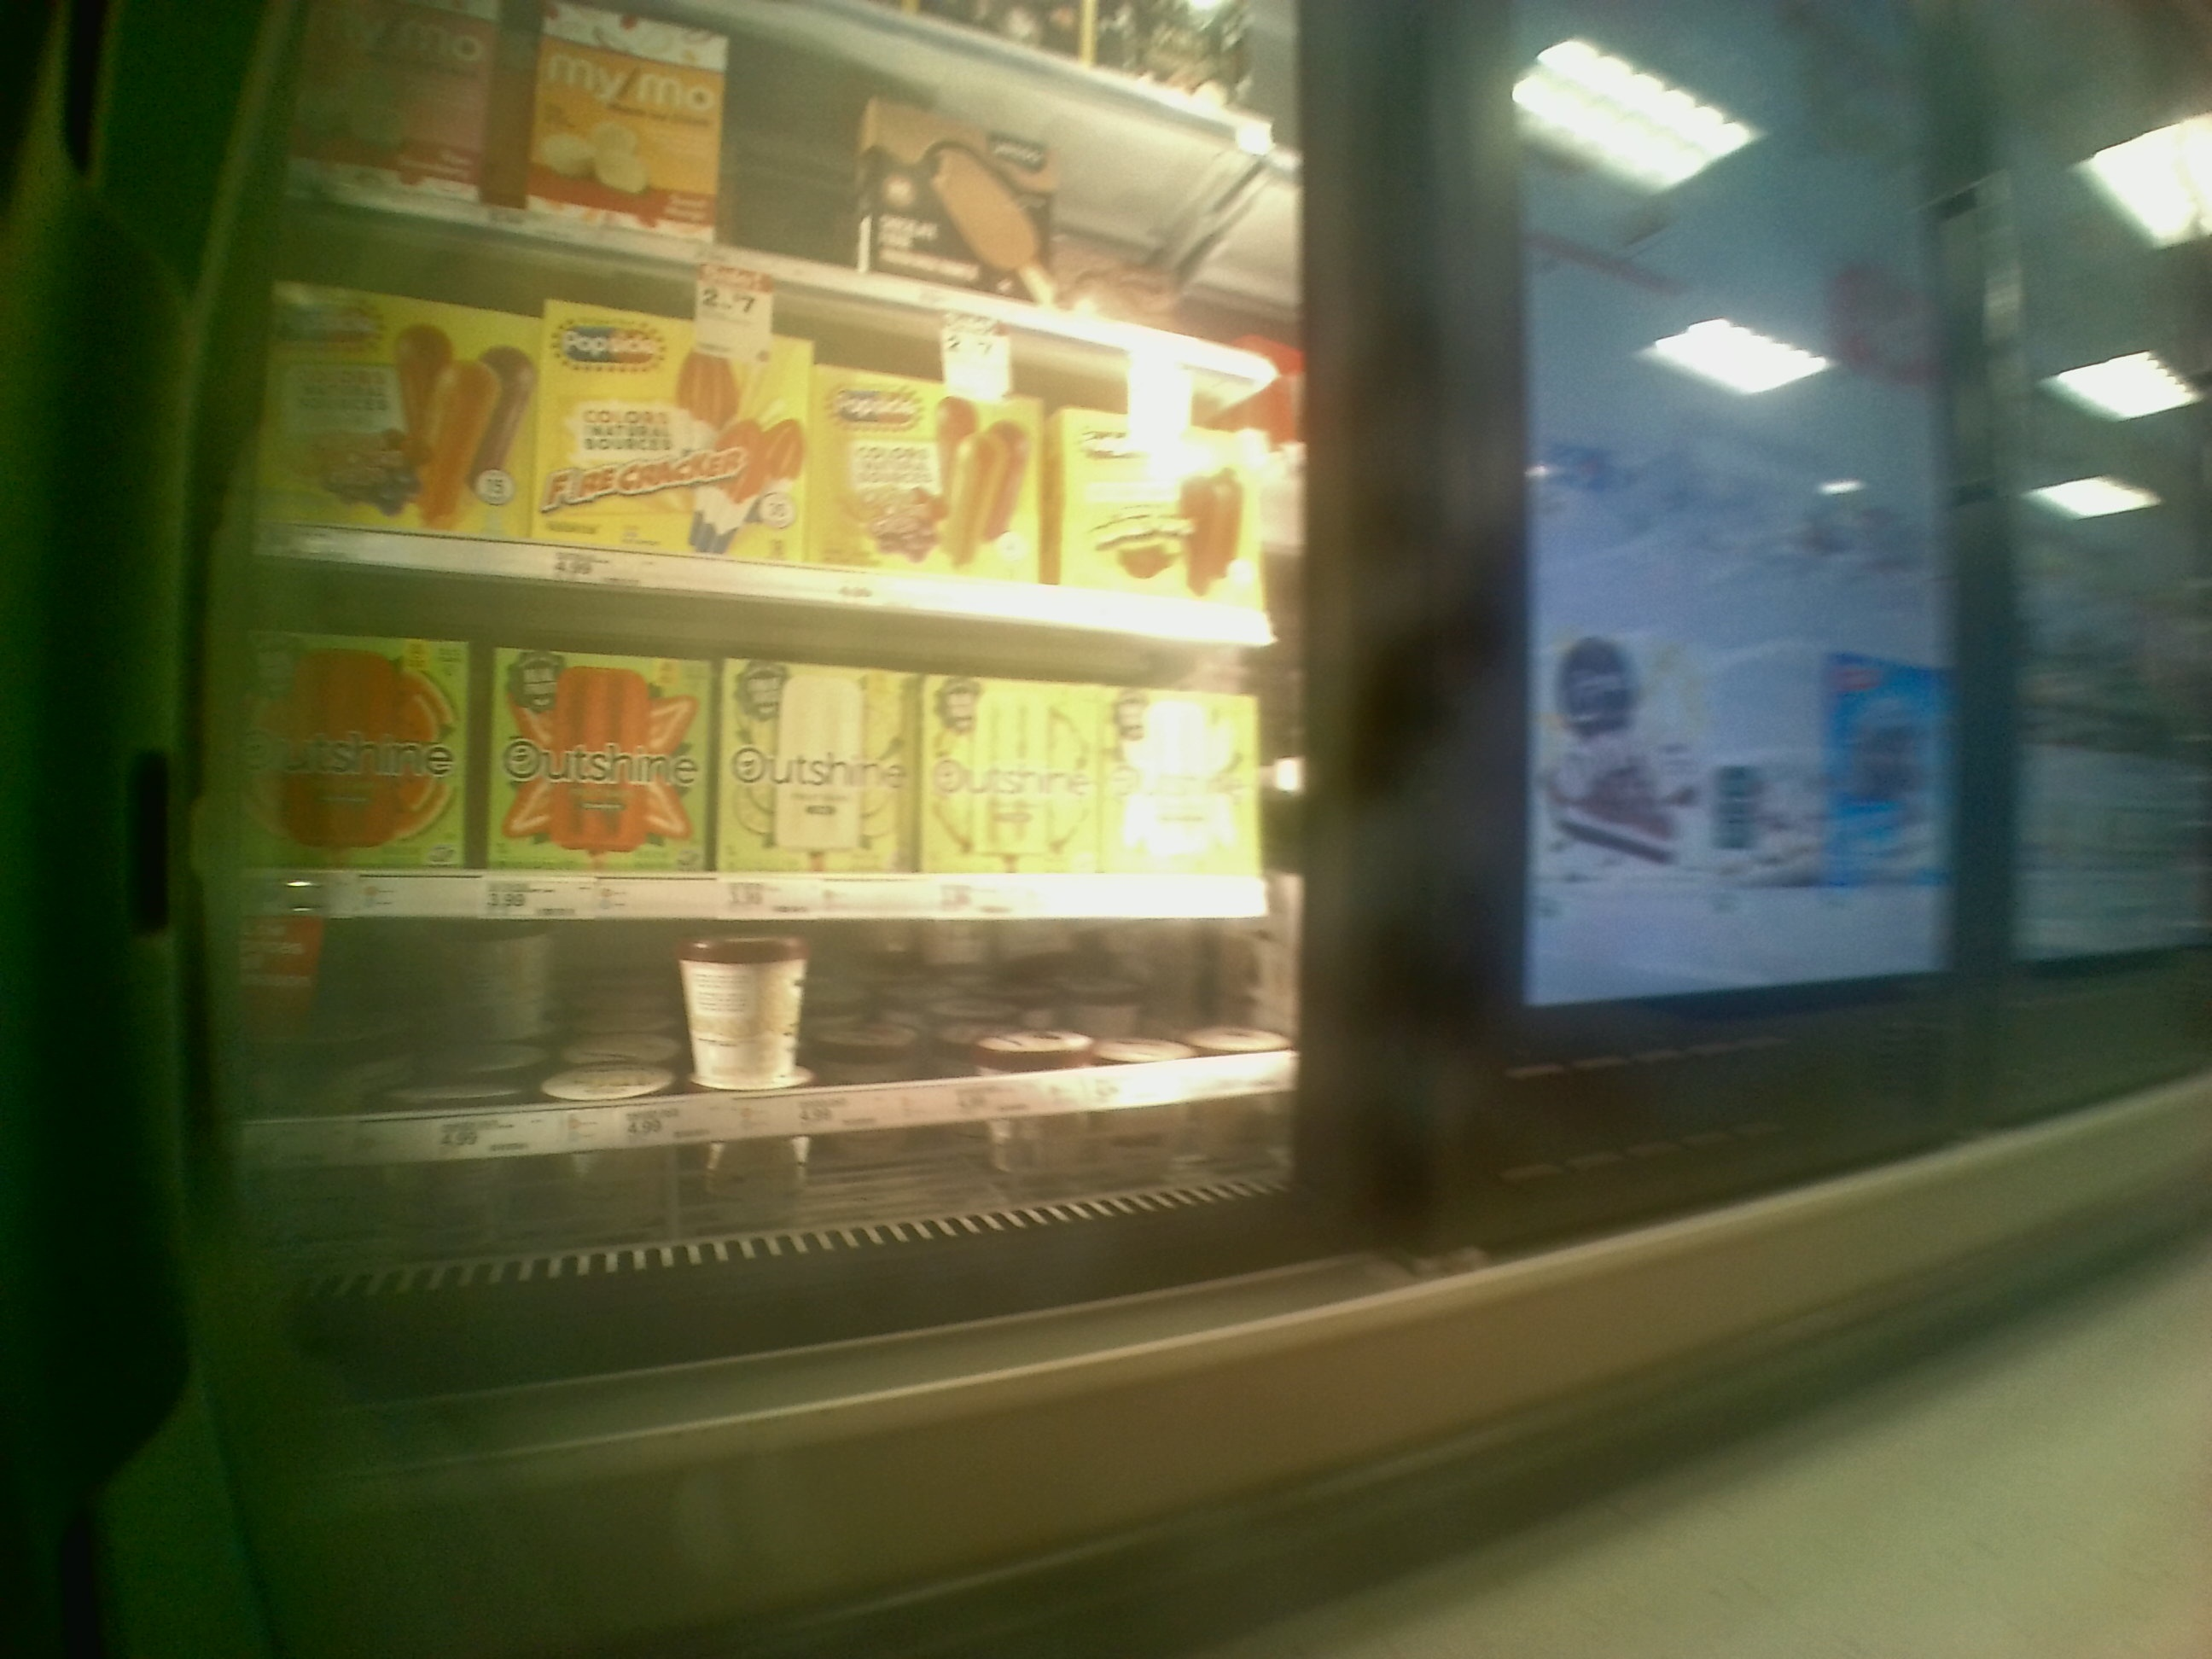ice-cream-shelf: (256, 572, 1282, 918)
